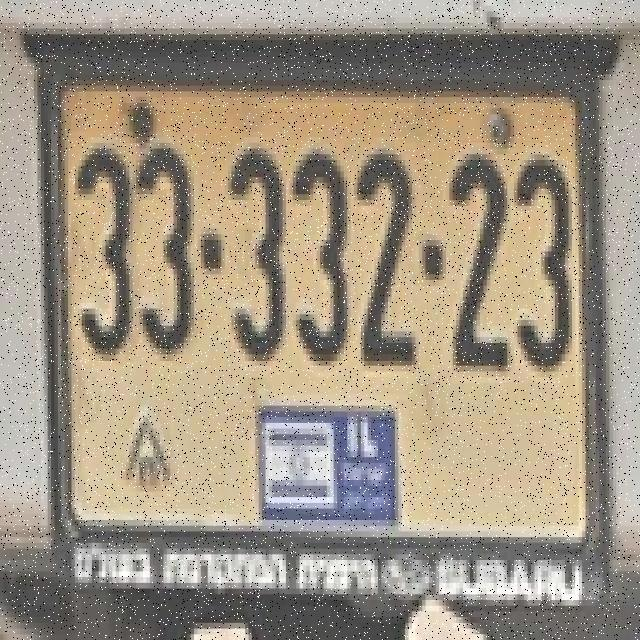LicensePlate: (21, 19, 622, 636)
